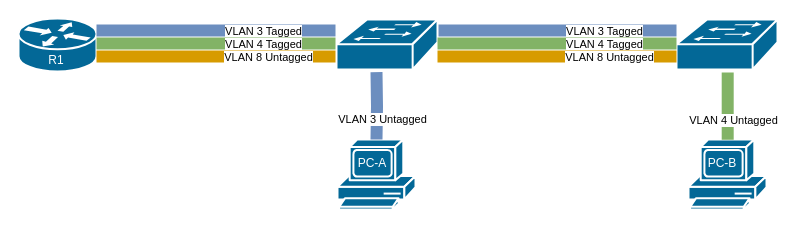
The diagram is 795 pixels wide and 227 high, and some of its shapes have lost their labels. The shapes that lost their labels are listed below. From the top down, each one's centre as x and y in pixels, then its label:
At (386,44): "S1".
At (726,44): "S2".
